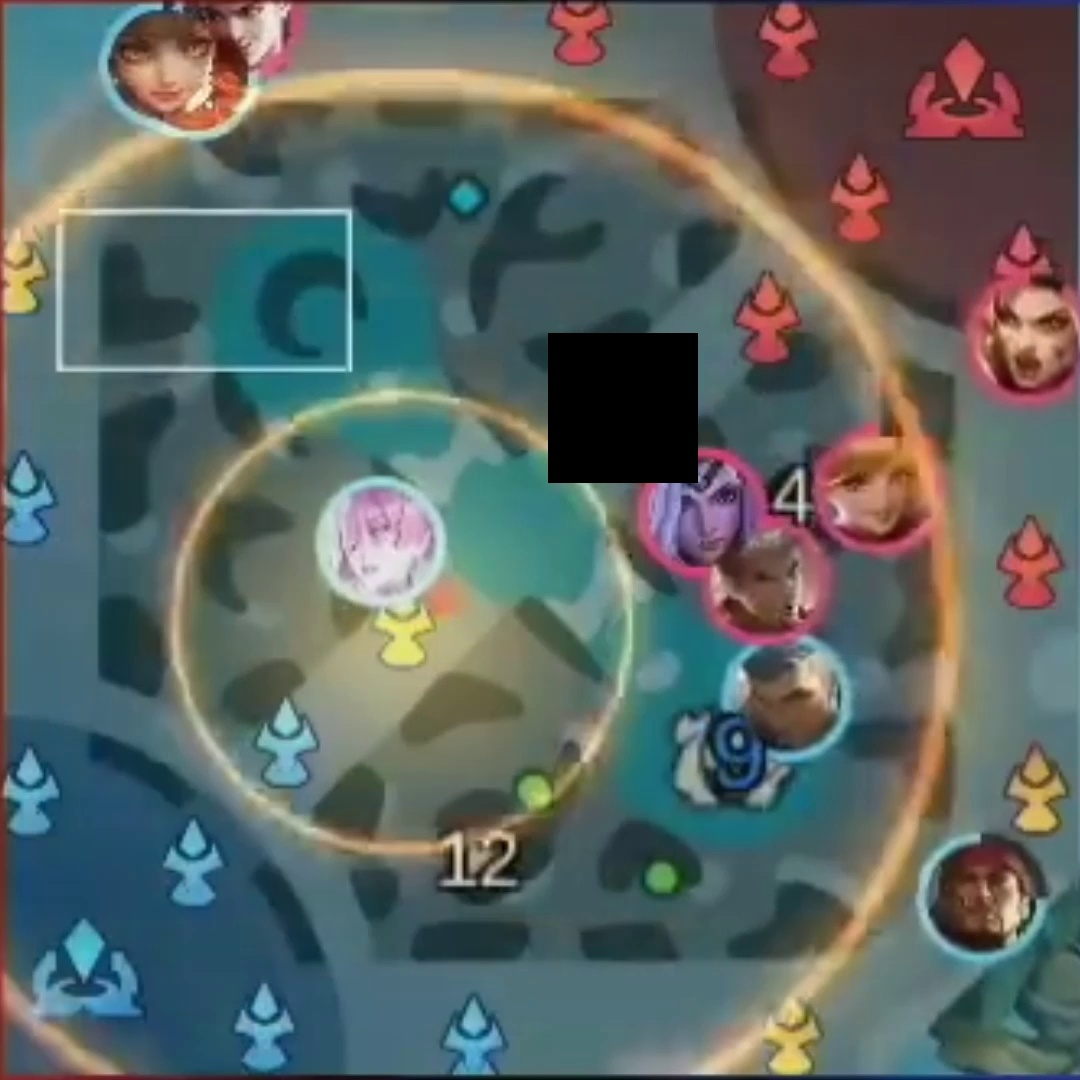Chou: (733, 536, 814, 622)
Claude: (215, 1, 286, 66)
Fanny: (833, 444, 918, 534)
Fredrinn: (744, 651, 836, 744)
Lapu-Lapu: (940, 847, 1023, 941)
Masha: (985, 288, 1070, 382)
Novaria: (332, 488, 423, 585)
Valentina: (657, 463, 747, 556)
Wanwan: (119, 18, 206, 109)
